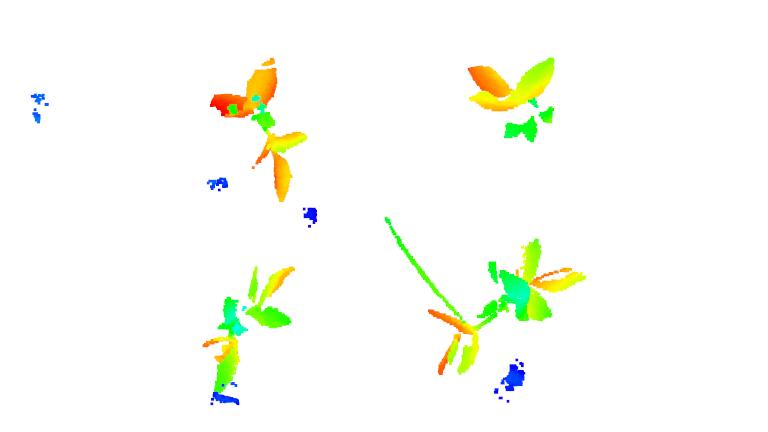mungbean: (430, 236, 593, 380), (201, 255, 305, 406), (211, 43, 305, 200), (454, 47, 563, 144)
